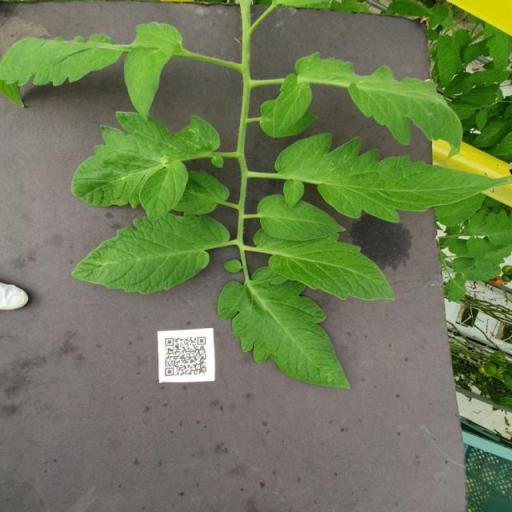Healthy: (272, 48, 466, 160), (276, 134, 502, 220), (0, 18, 180, 118), (214, 267, 352, 393), (74, 214, 230, 298), (254, 224, 396, 306), (257, 192, 349, 242)
